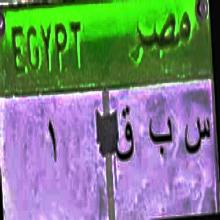baa: (146, 109, 174, 161)
qaaf: (112, 100, 136, 174), (46, 114, 60, 172)
seen: (183, 109, 212, 169)
